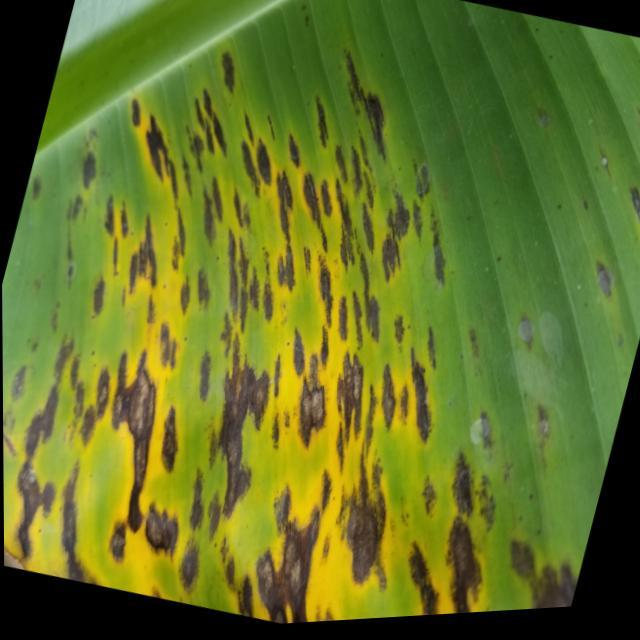Early_rust: (5, 42, 616, 640)
